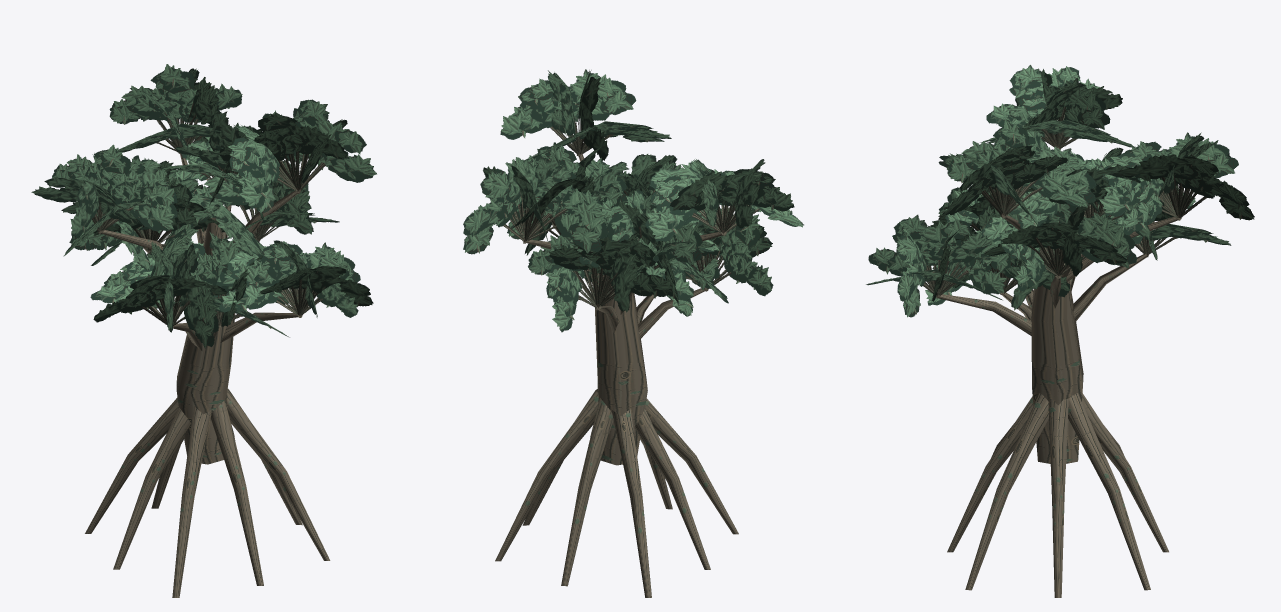
Rendered from salt-marsh-mangrove-near.glb.
3 views of the same model, side by side, from view 1: azimuth 30°, elevation 25°; view 2: azimuth 150°, elevation 25°; view 3: azimuth 270°, elevation 25° (orthographic). The views are drawn at different scales.
Parts seen in each view (by area): view 1: Salt-marsh mangrove near v3 runtime; view 2: Salt-marsh mangrove near v3 runtime; view 3: Salt-marsh mangrove near v3 runtime.
Part boxes in pixels (x1,y1,x2,y2): Salt-marsh mangrove near v3 runtime: [31, 64, 376, 597]; Salt-marsh mangrove near v3 runtime: [463, 69, 803, 597]; Salt-marsh mangrove near v3 runtime: [866, 65, 1254, 597].
Size of the model in its own units: 5.41 by 7.32 by 5.6.
Materials: 1 (1 with a texture image).
